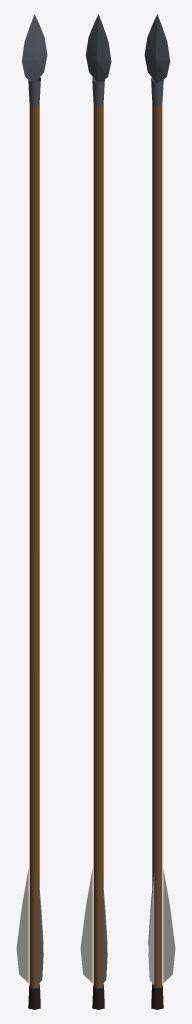
File: arrow.glb
3 renders of one model, left to right at view 1: azimuth 30°, elevation 25°; view 2: azimuth 150°, elevation 25°; view 3: azimuth 330°, elevation 25°, orthographic.
Parts seen in each view (by area): view 1: item; view 2: item; view 3: item.
Part boxes in pixels (x1,y1,x2,y2): item: [16, 14, 47, 1009]; item: [80, 14, 111, 1009]; item: [144, 14, 175, 1009].
Bounding box in the file's own units: 0.0242 × 0.85 × 0.021.
Materials: 1 (1 with a texture image).
